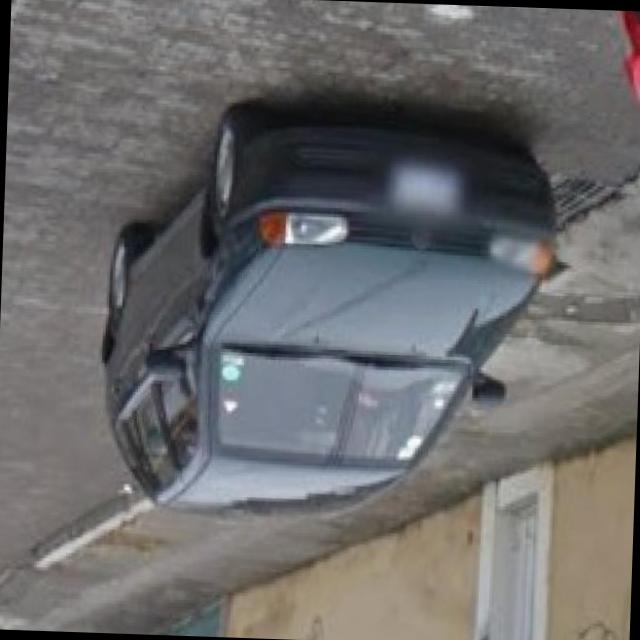car: (106, 109, 554, 524)
